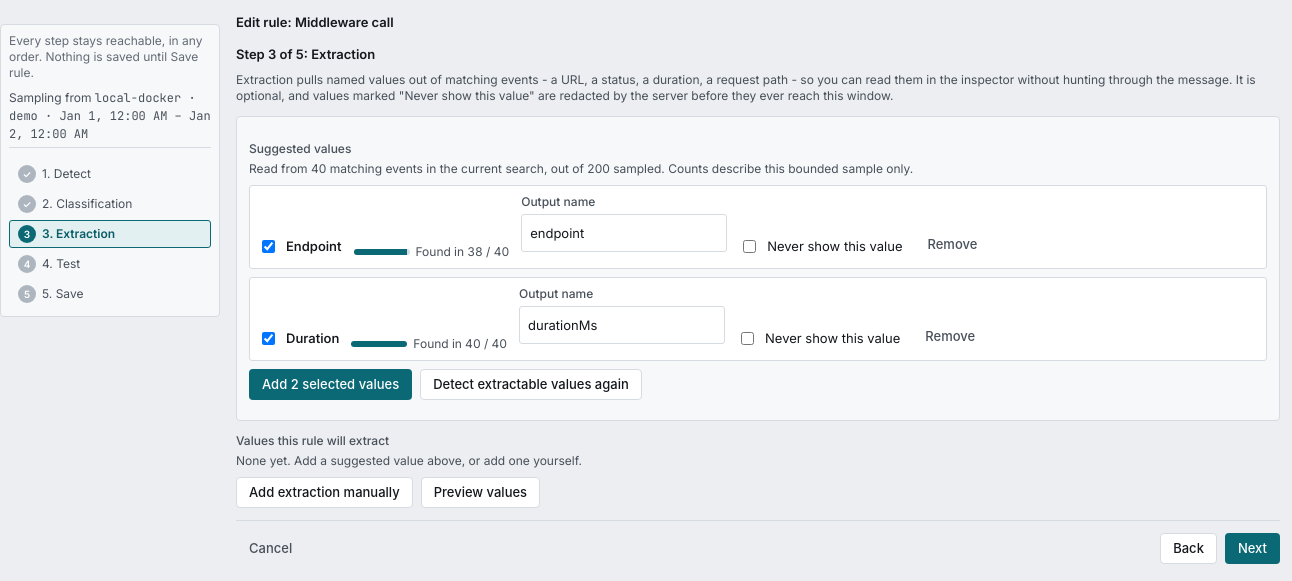
it: RuleEditor - assisted extraction: the suggestion list › "Detect extractable values again" re-asks the server with the same scope
Click the button "Detect extractable values again".
click(531, 384)  # box [420,369,642,400]
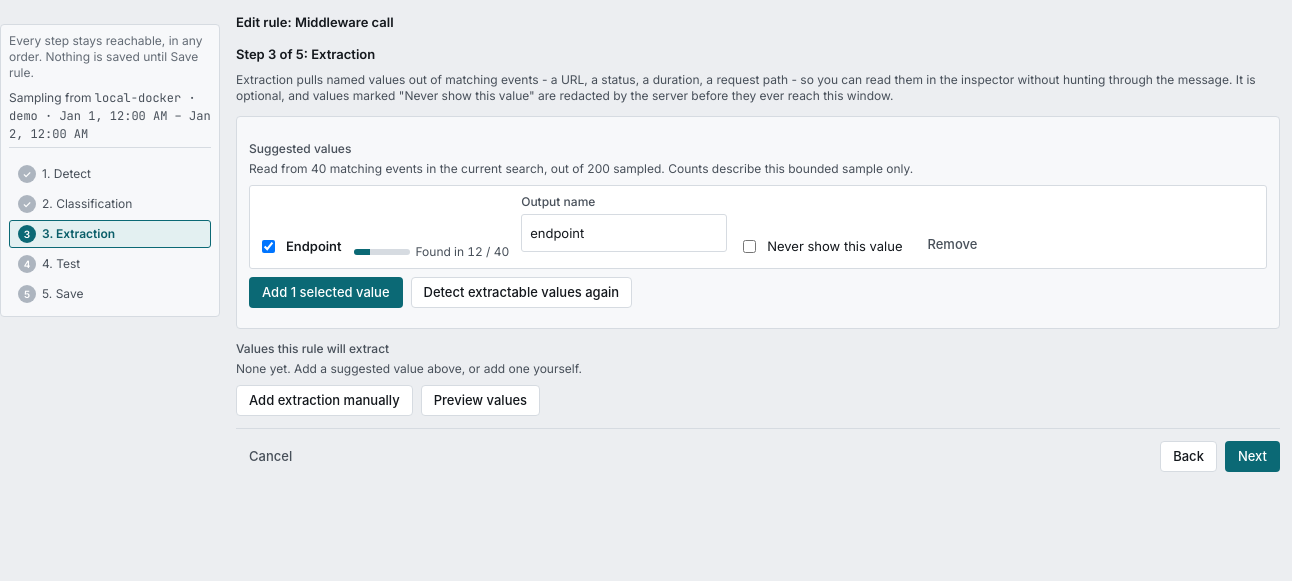
Check: the text "Found in 12 / 40" is shown, box [354,244,509,260]
